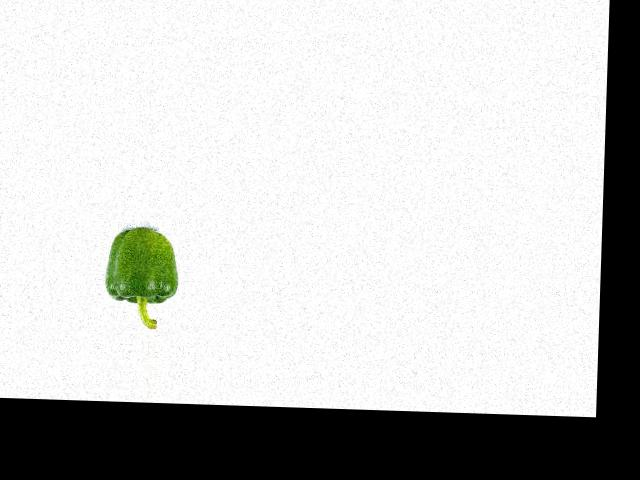bell_pepper: (92, 226, 181, 327)
